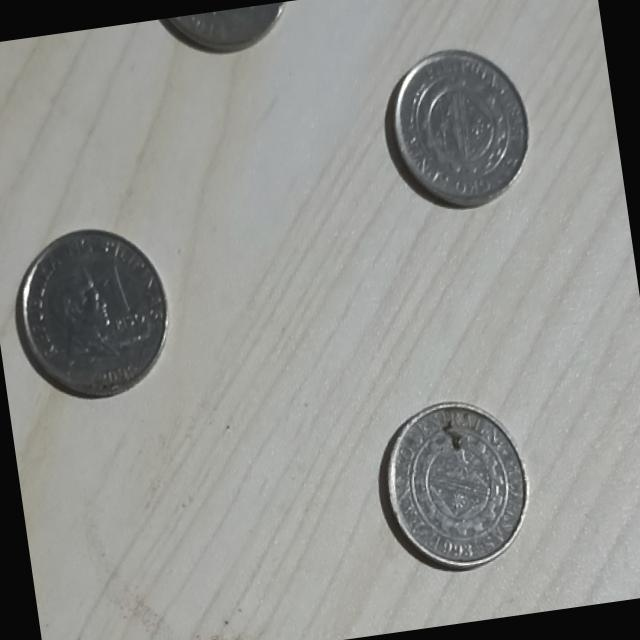1_peso: (18, 231, 167, 396), (387, 402, 527, 568), (394, 52, 527, 205)
